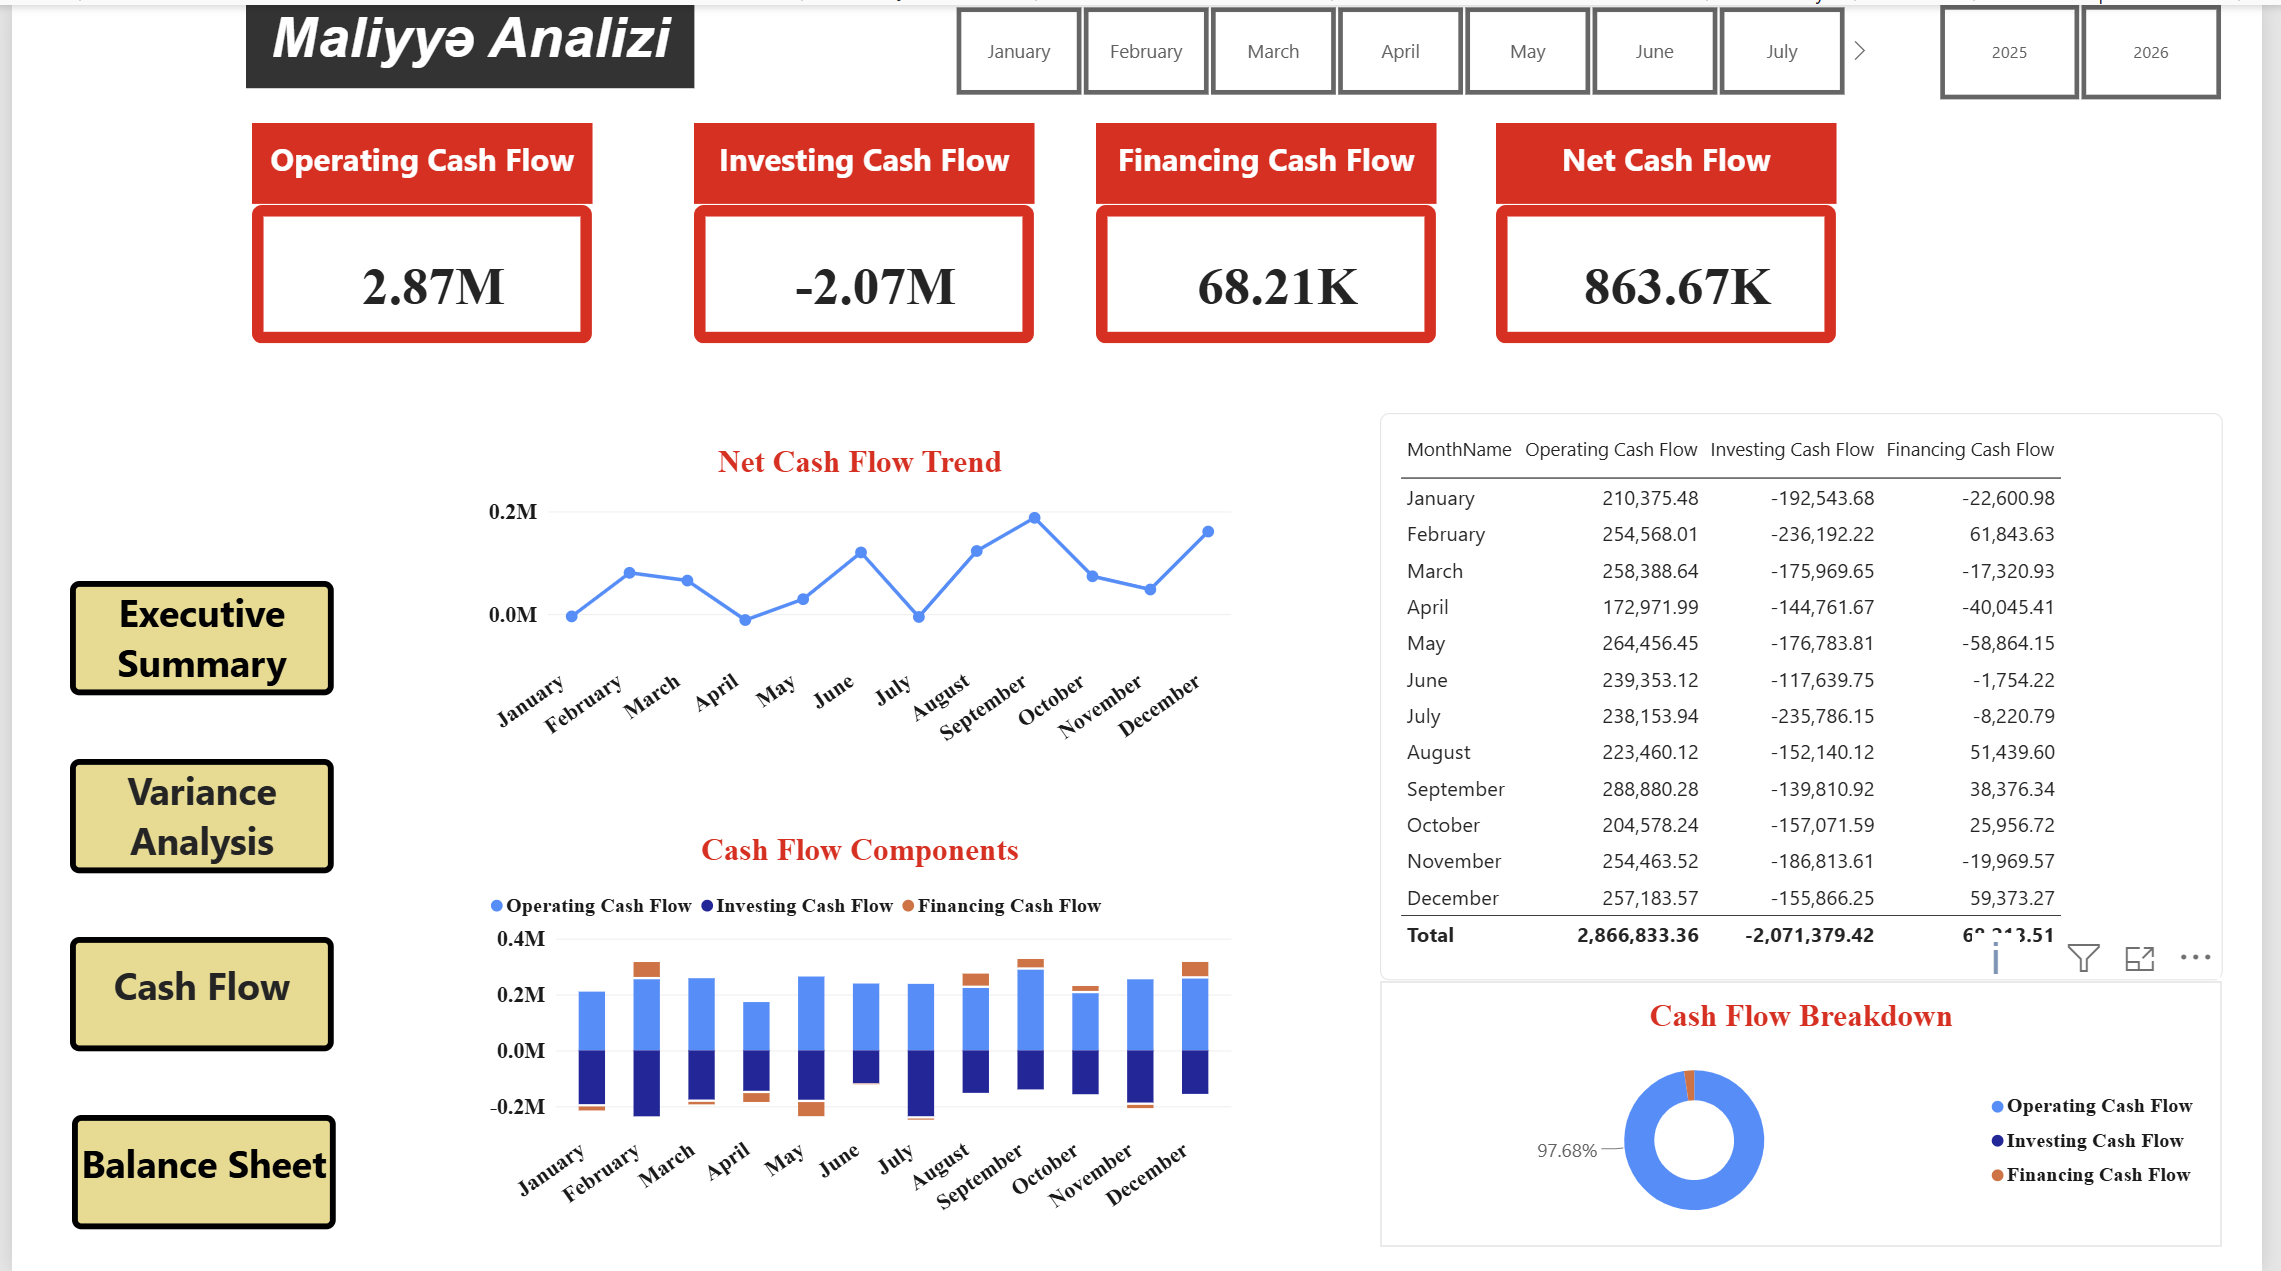

Layout of this report page (visuals, bound fields, positions):
{"tool":"powerbi","page":{"name":"Cash Flow","canvas":[1920,1080],"ordinal":2},"visuals":[{"type":"textbox","box":[198.9,0,382.5,70.8],"z":0},{"type":"slicer","fields":{"Values":["DimDate.MonthName"]},"box":[784.1,0,797.5,78.4],"z":1000},{"type":"slicer","fields":{"Values":["DimDate.Year"]},"box":[1625.5,0,277.3,80.3],"z":2000},{"type":"cardVisual","fields":{"Data":["Measures (2).Operating Cash Flow"]},"box":[204.6,170.2,290.7,118.6],"z":3000},{"type":"cardVisual","fields":{"Data":["Measures (2).Investing Cash Flow"]},"box":[581.4,170.2,290.7,118.6],"z":4000},{"type":"cardVisual","fields":{"Data":["Measures (2).Financing Cash Flow"]},"box":[925.6,170.2,290.7,118.6],"z":5000},{"type":"cardVisual","fields":{"Data":["Measures (2).Net Cash Flow"]},"box":[1266,170.2,290.7,118.6],"z":6000},{"type":"textbox","box":[204.6,101.4,290.7,68.8],"z":7000},{"type":"textbox","box":[49.7,491.5,225,97.5],"z":8000},{"type":"textbox","box":[49.7,643.2,225,97.5],"z":9000},{"type":"textbox","box":[49,794.9,225,97.5],"z":10000},{"type":"textbox","box":[51.6,946.6,225,97.5],"z":11000},{"type":"actionButton","box":[49.7,491.5,225.7,99.4],"z":12000},{"type":"actionButton","box":[49.7,946.6,225.7,99.4],"z":13000},{"type":"actionButton","box":[51.6,795.5,225.7,99.4],"z":14000},{"type":"actionButton","box":[49.7,640.6,225.7,99.4],"z":15000},{"type":"textbox","box":[1266,101.4,290.7,68.8],"z":16000},{"type":"textbox","box":[581.4,101.4,290.7,68.8],"z":17000},{"type":"textbox","box":[925.6,101.4,290.7,68.8],"z":18000},{"type":"lineChart","title":"Net Cash Flow Trend","fields":{"Category":["DimDate.MonthName"],"Y":["Measures (2).Net Cash Flow"]},"box":[390.1,359.5,665.5,300.2],"z":18001},{"type":"columnChart","title":"Cash Flow Components","fields":{"Category":["DimDate.MonthName"],"Y":["Measures (2).Operating Cash Flow","Measures (2).Investing Cash Flow","Measures (2).Financing Cash Flow"]},"box":[390.1,690.4,665.5,369.1],"z":18002},{"type":"tableEx","fields":{"Values":["DimDate.MonthName","Measures (2).Operating Cash Flow","Measures (2).Investing Cash Flow","Measures (2).Financing Cash Flow"]},"box":[1166.5,348,719,483.8],"z":18003},{"type":"donutChart","title":"Cash Flow Breakdown","fields":{"Y":["Measures (2).Operating Cash Flow","Measures (2).Investing Cash Flow","Measures (2).Financing Cash Flow"]},"box":[1166.5,831.9,719,227.6],"z":18005}]}

Visuals, with their boxes in screenshot pixels (x1, y1, x2, y2), scaled from the page's 1920x1080 canvas onto the 2281x1271 screenshot:
textbox: [236, 0, 691, 83]
slicer - DimDate.MonthName: [932, 0, 1879, 92]
slicer - DimDate.Year: [1931, 0, 2261, 95]
cardVisual - Measures (2).Operating Cash Flow: [243, 200, 588, 340]
cardVisual - Measures (2).Investing Cash Flow: [691, 200, 1036, 340]
cardVisual - Measures (2).Financing Cash Flow: [1100, 200, 1445, 340]
cardVisual - Measures (2).Net Cash Flow: [1504, 200, 1849, 340]
textbox: [243, 119, 588, 200]
textbox: [59, 578, 326, 693]
textbox: [59, 757, 326, 872]
textbox: [58, 935, 326, 1050]
textbox: [61, 1114, 329, 1229]
actionButton: [59, 578, 327, 695]
actionButton: [59, 1114, 327, 1231]
actionButton: [61, 936, 329, 1053]
actionButton: [59, 754, 327, 871]
textbox: [1504, 119, 1849, 200]
textbox: [691, 119, 1036, 200]
textbox: [1100, 119, 1445, 200]
"Net Cash Flow Trend" lineChart: [463, 423, 1254, 776]
"Cash Flow Components" columnChart: [463, 812, 1254, 1247]
tableEx - DimDate.MonthName x Measures (2).Operating Cash Flow: [1386, 410, 2240, 979]
"Cash Flow Breakdown" donutChart: [1386, 979, 2240, 1247]
